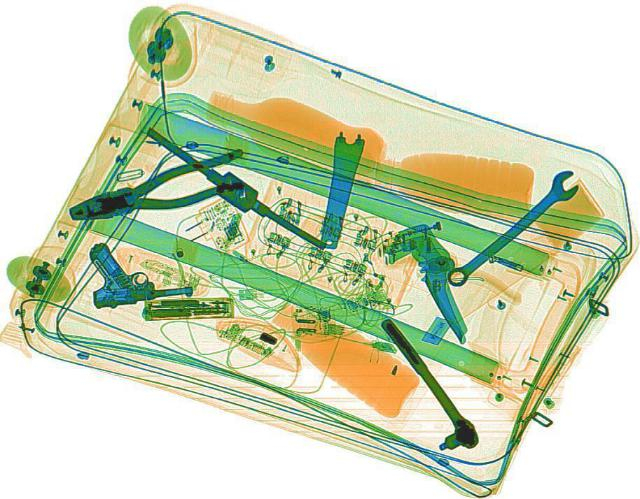Gun: (77, 232, 195, 309)
Pliers: (61, 146, 262, 234)
Wrench: (436, 166, 588, 289)
